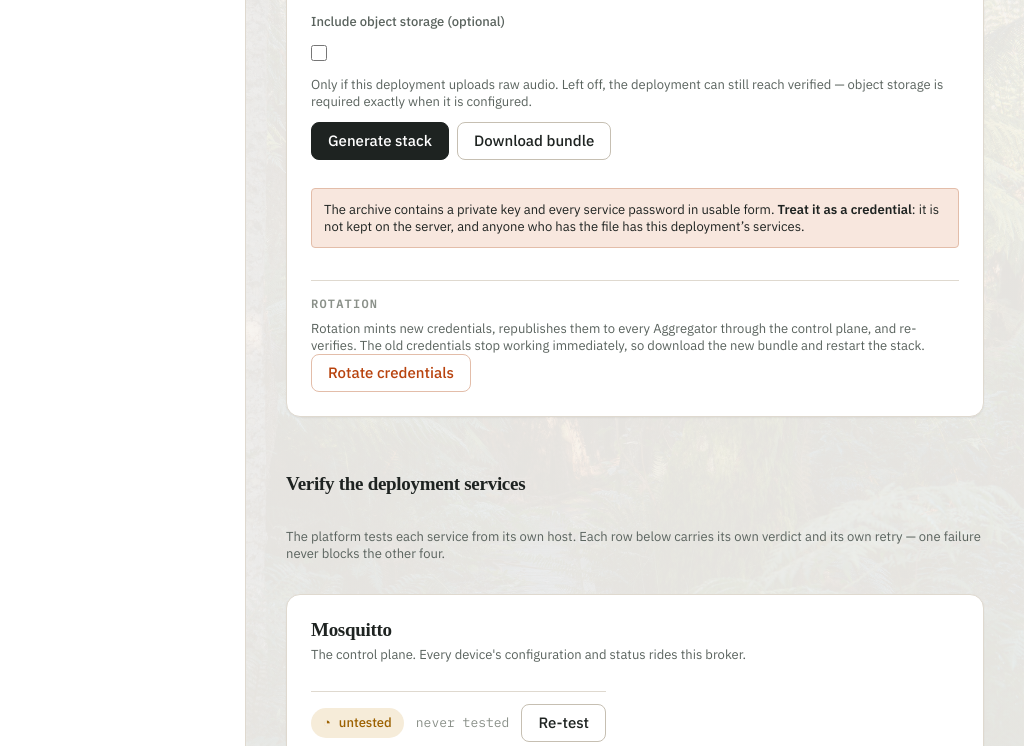
Test case: rotation › reports how many devices were told
(page scrolled)
What coordinates should you click on to do the following:
click the button with test id "stack-rotate" showing "Rotate credentials"
I would click on:
 (391, 373)
Its box is [311,354,471,392].
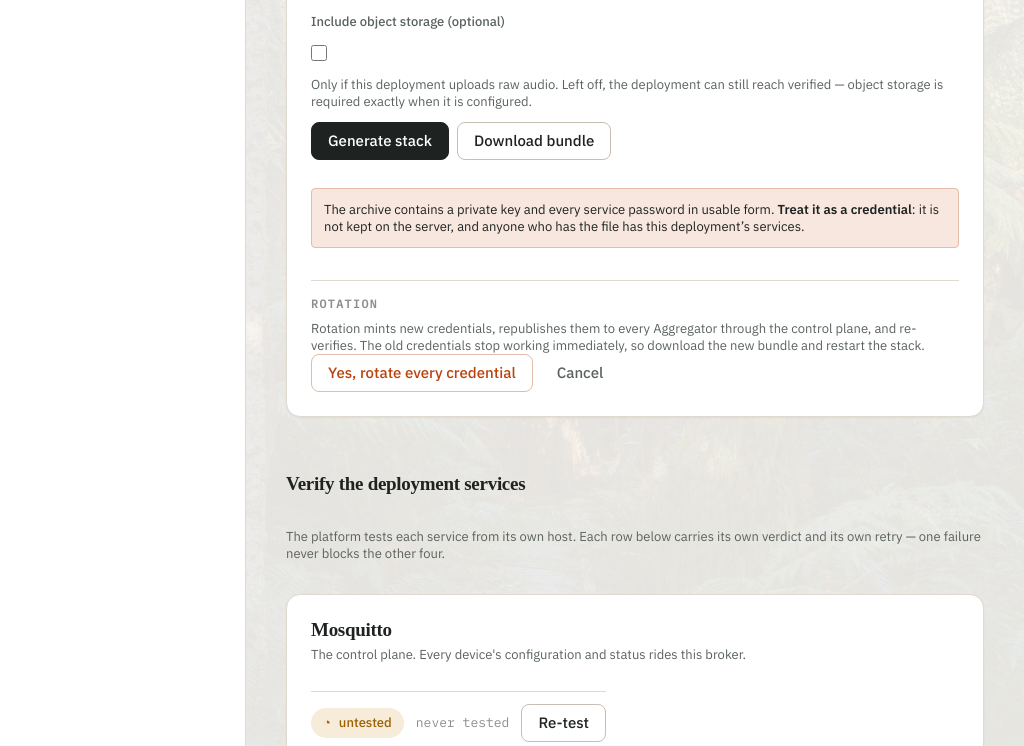
What coordinates should you click on to do the following:
click the button "Yes, rotate every credential"
I would click on:
 (422, 373)
Its box is [311,354,533,392].
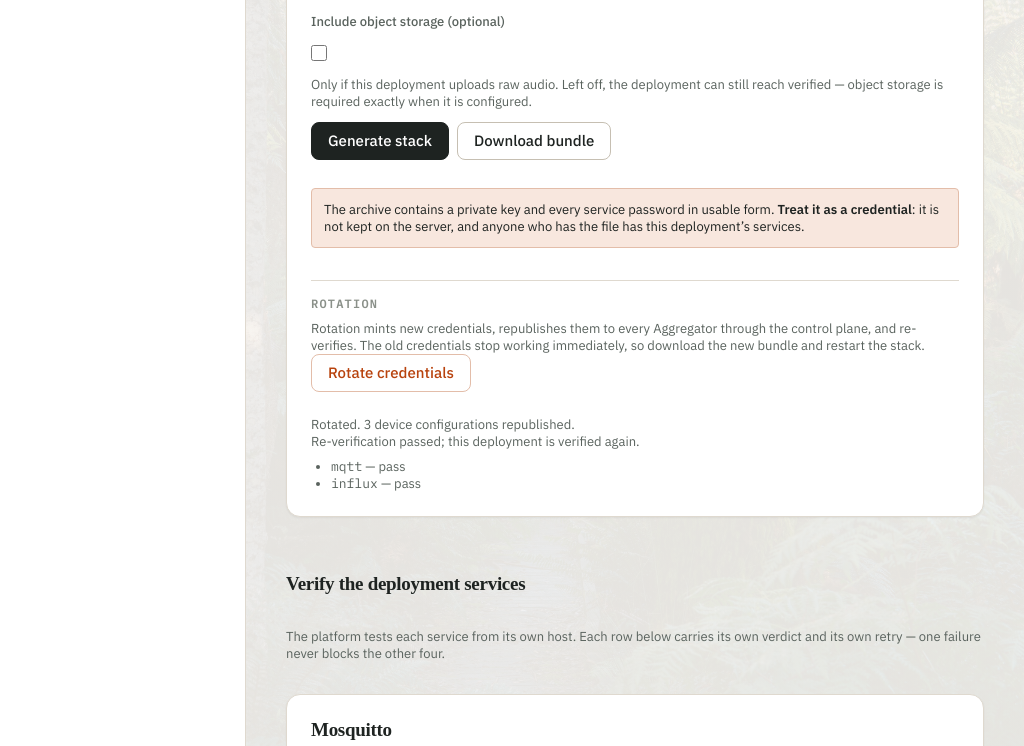
Now the element with test id "stack-rotation-result" shows "3 device configurations republished", box [311,416,640,492]
Now the element with test id "stack-rotation-result" shows "Re-verification passed", box [311,433,640,450]
